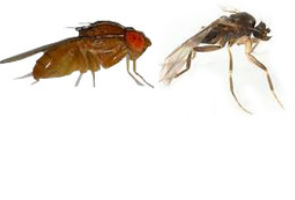phorid fly: (1, 4, 157, 111), (159, 5, 294, 121)
